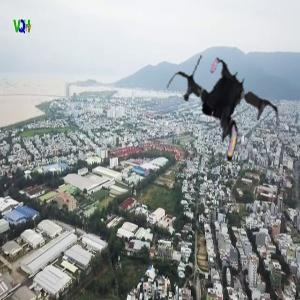drone: (157, 50, 284, 177)
